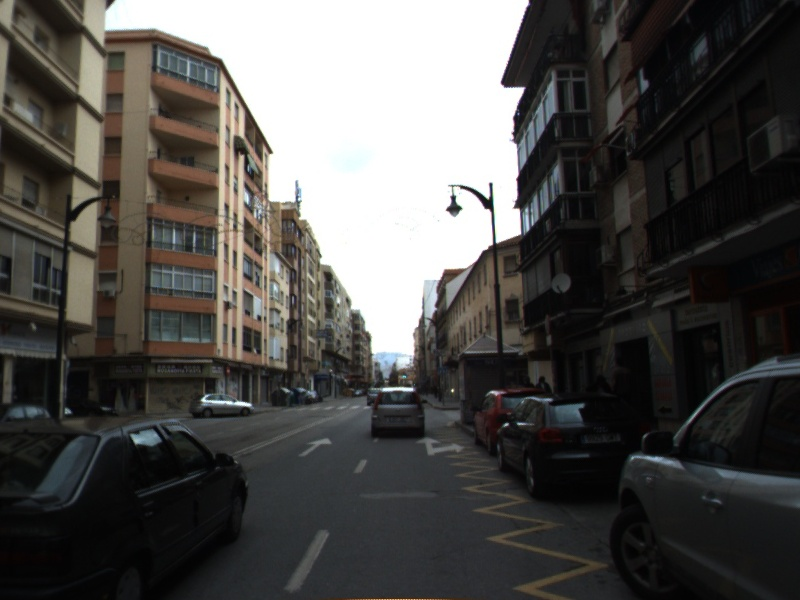STRAIGHT: (296, 436, 335, 459)
STRAIGHT_RIGHT: (413, 435, 466, 457)
